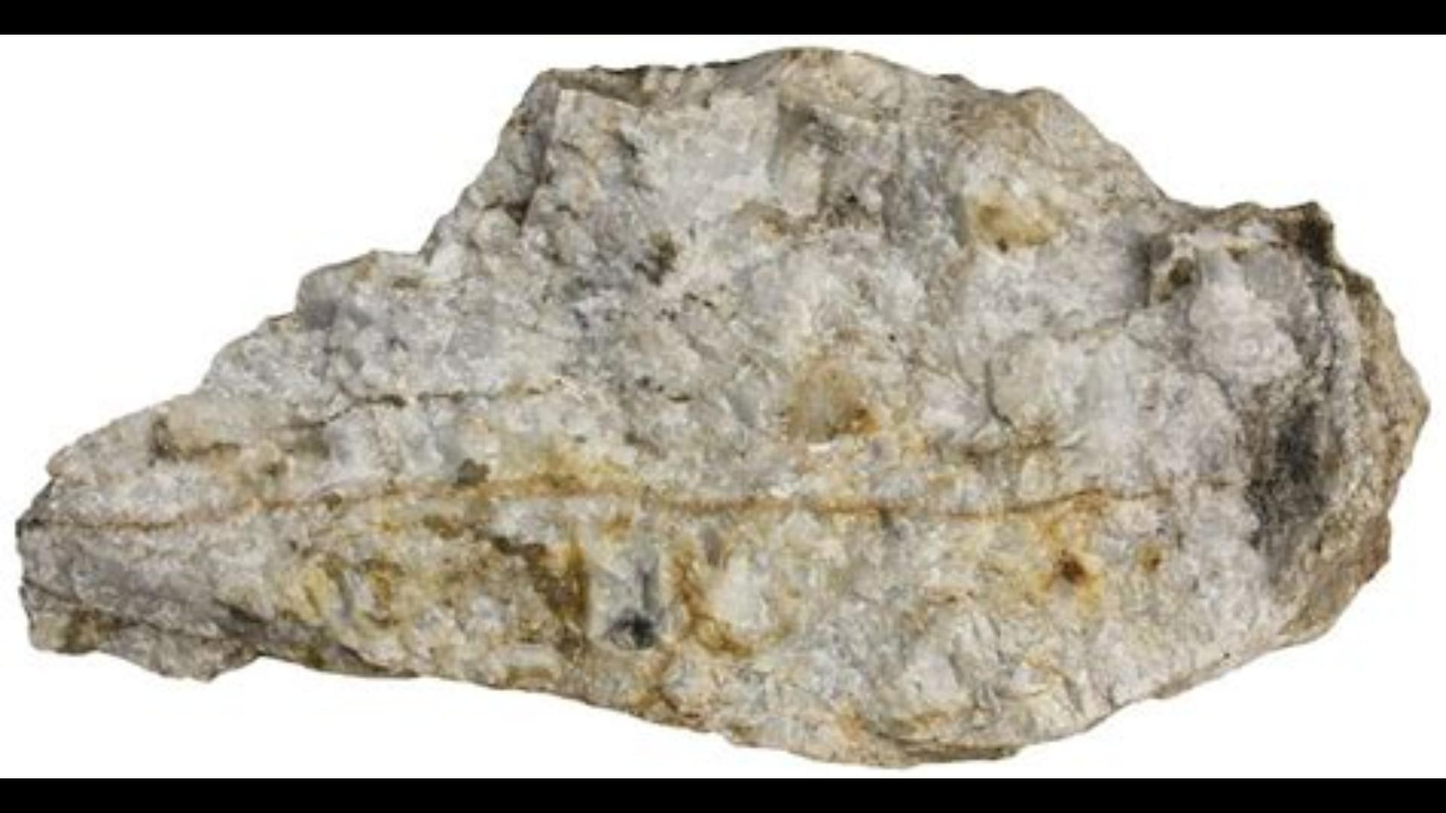rock: (18, 50, 1425, 754)
